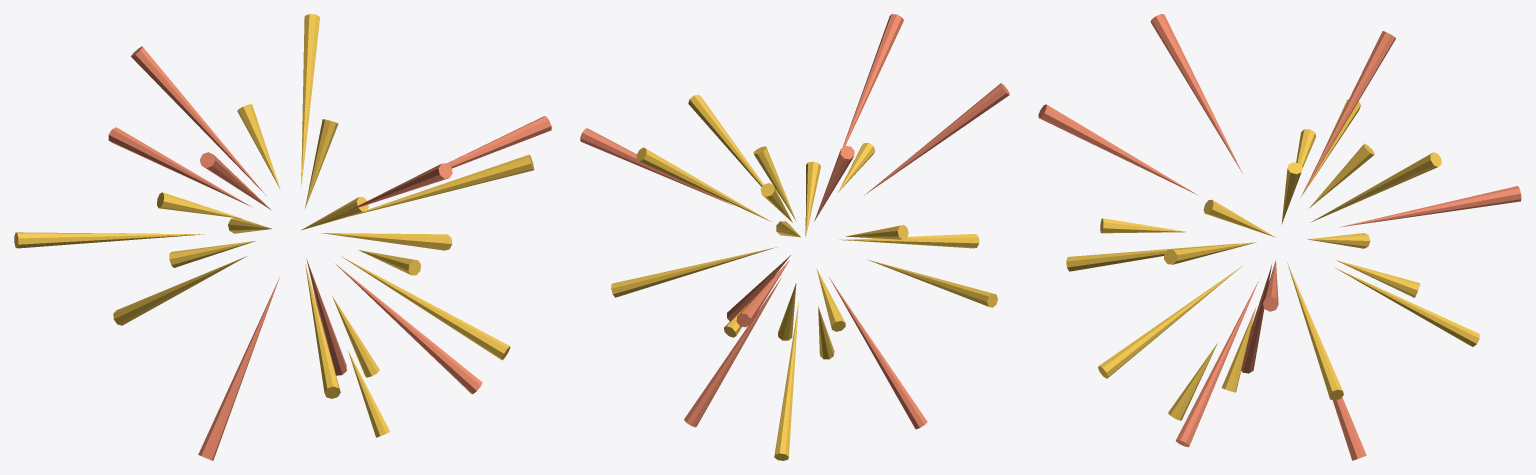
3 views of the same model, side by side, from view 1: azimuth 30°, elevation 25°; view 2: azimuth 150°, elevation 25°; view 3: azimuth 270°, elevation 25° (orthographic). The views are drawn at different scales.
Visible parts, largest first — view 1: 円錐005_1, 円錐005; view 2: 円錐005_1, 円錐005; view 3: 円錐005_1, 円錐005.
Part boxes in pixels (x1,y1,x2,y2): 円錐005_1: (14,14,534,437); 円錐005: (108,46,551,460); 円錐005_1: (611,94,997,460); 円錐005: (580,14,1009,429); 円錐005_1: (1066,99,1479,420); 円錐005: (1038,14,1521,460).
Size of the model in its own units: 10.69 by 7.5 by 9.52.
